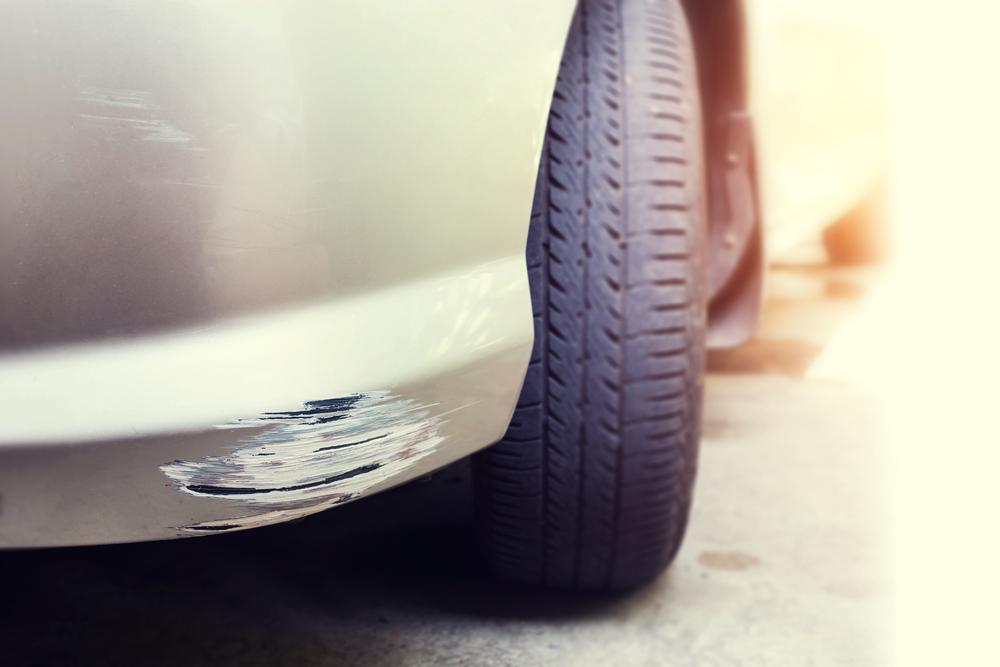scratch: (144, 389, 472, 539), (72, 64, 212, 158)
